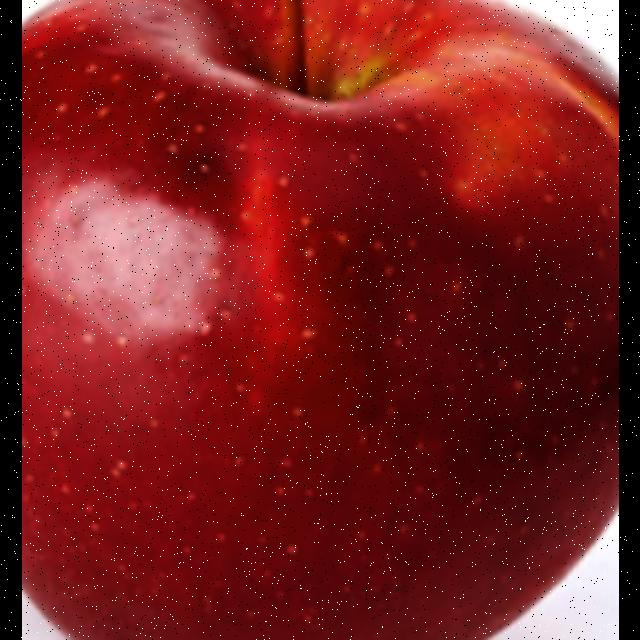Apel Segar: (22, 0, 619, 640)
